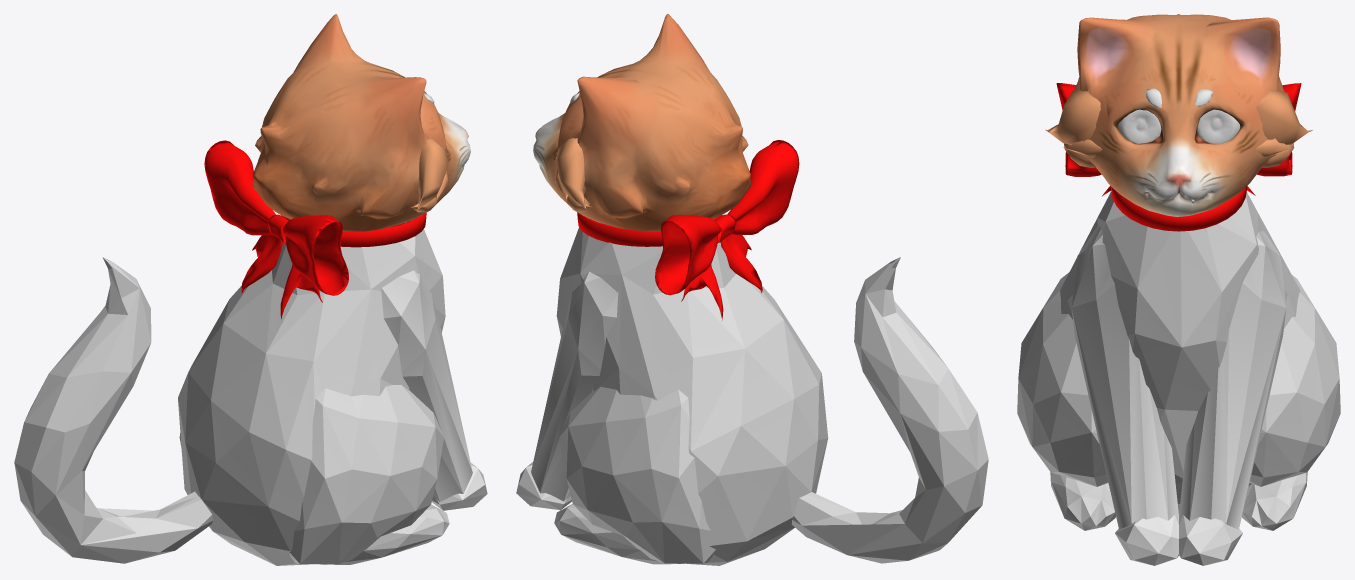
File: OrangeCreamCat.fbx
3 renders of one model, left to right at view 1: azimuth 30°, elevation 25°; view 2: azimuth 150°, elevation 25°; view 3: azimuth 270°, elevation 25°, orthographic. The views are drawn at different scales.
Parts seen in each view (by area): view 1: base body, base head, tail, leg right, bow, arm right, foot right, hair tufts, collar, paw right; view 2: base body, base head, tail, leg left, bow, arm left, foot left, hair tufts, collar, paw left; view 3: base head, base body, arm right, arm left, leg right, leg left, hair tufts, foot right, foot left, paw right, paw left, collar (+4 smaller).
Boxes of the visible parts, x1,y1,x2,y2 form: base body: [178, 222, 445, 565]; base head: [252, 14, 470, 231]; tail: [14, 257, 212, 563]; leg right: [289, 384, 444, 564]; bow: [204, 140, 348, 319]; arm right: [381, 270, 472, 501]; foot right: [320, 504, 449, 564]; hair tufts: [411, 137, 448, 212]; collar: [281, 212, 426, 247]; paw right: [432, 462, 487, 510]; base body: [556, 227, 828, 565]; base head: [533, 14, 751, 231]; tail: [791, 257, 988, 563]; leg left: [559, 386, 715, 563]; bow: [655, 140, 799, 319]; arm left: [531, 271, 618, 501]; foot left: [554, 504, 683, 564]; hair tufts: [555, 138, 591, 211]; collar: [577, 212, 722, 246]; paw left: [516, 462, 571, 510]; base head: [1074, 14, 1284, 216]; base body: [1060, 192, 1300, 513]; arm right: [1071, 225, 1178, 529]; arm left: [1179, 231, 1286, 529]; leg right: [1017, 272, 1108, 486]; leg left: [1249, 275, 1340, 486]; hair tufts: [1045, 89, 1312, 167]; foot right: [1050, 472, 1115, 530]; foot left: [1242, 472, 1307, 530]; paw right: [1115, 515, 1178, 565]; paw left: [1179, 515, 1242, 565]; collar: [1111, 186, 1246, 231].
Bounding box in the file's own units: 439 × 435 × 249.
7 materials, 1 textured.
